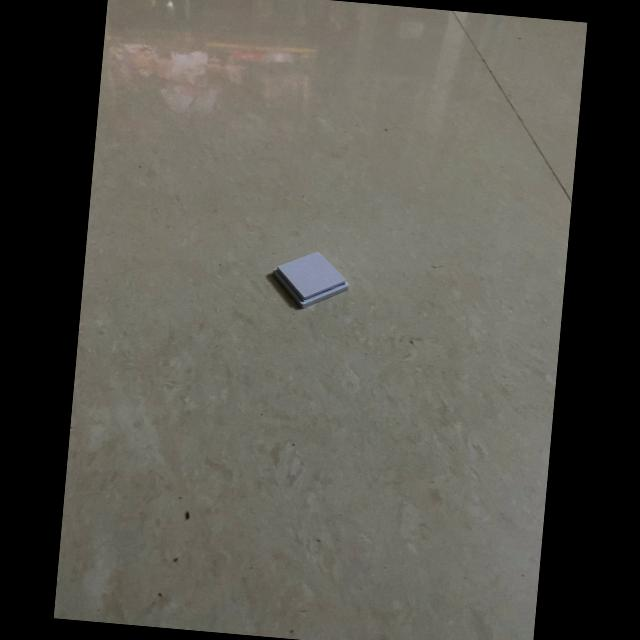RASPBERY PI CAM ENCLOSURE: (270, 247, 353, 313)
